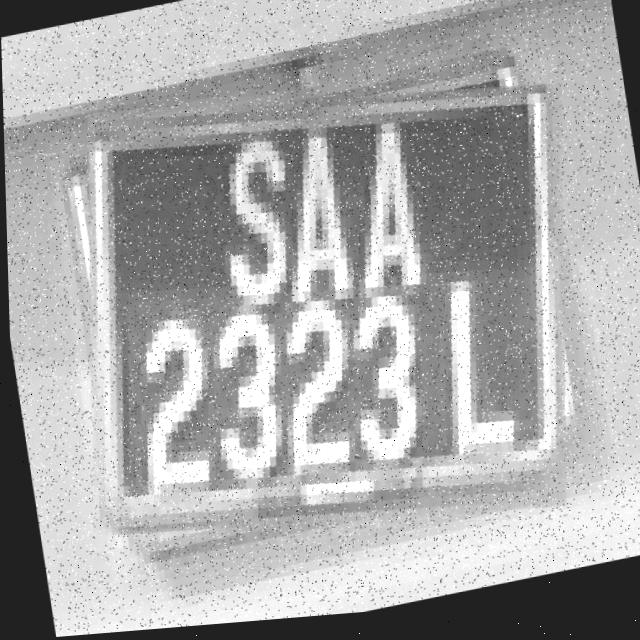LicensePlate: (42, 41, 607, 588)
